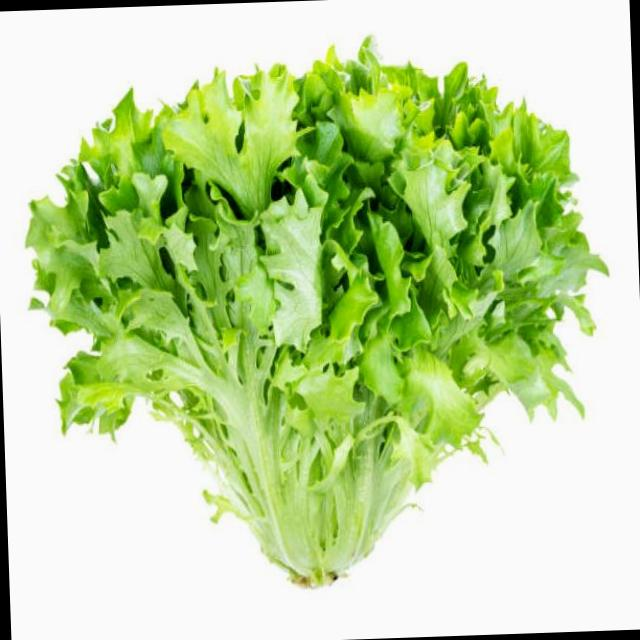Lettuce-Ready-to-Harvest: (27, 43, 606, 581)
